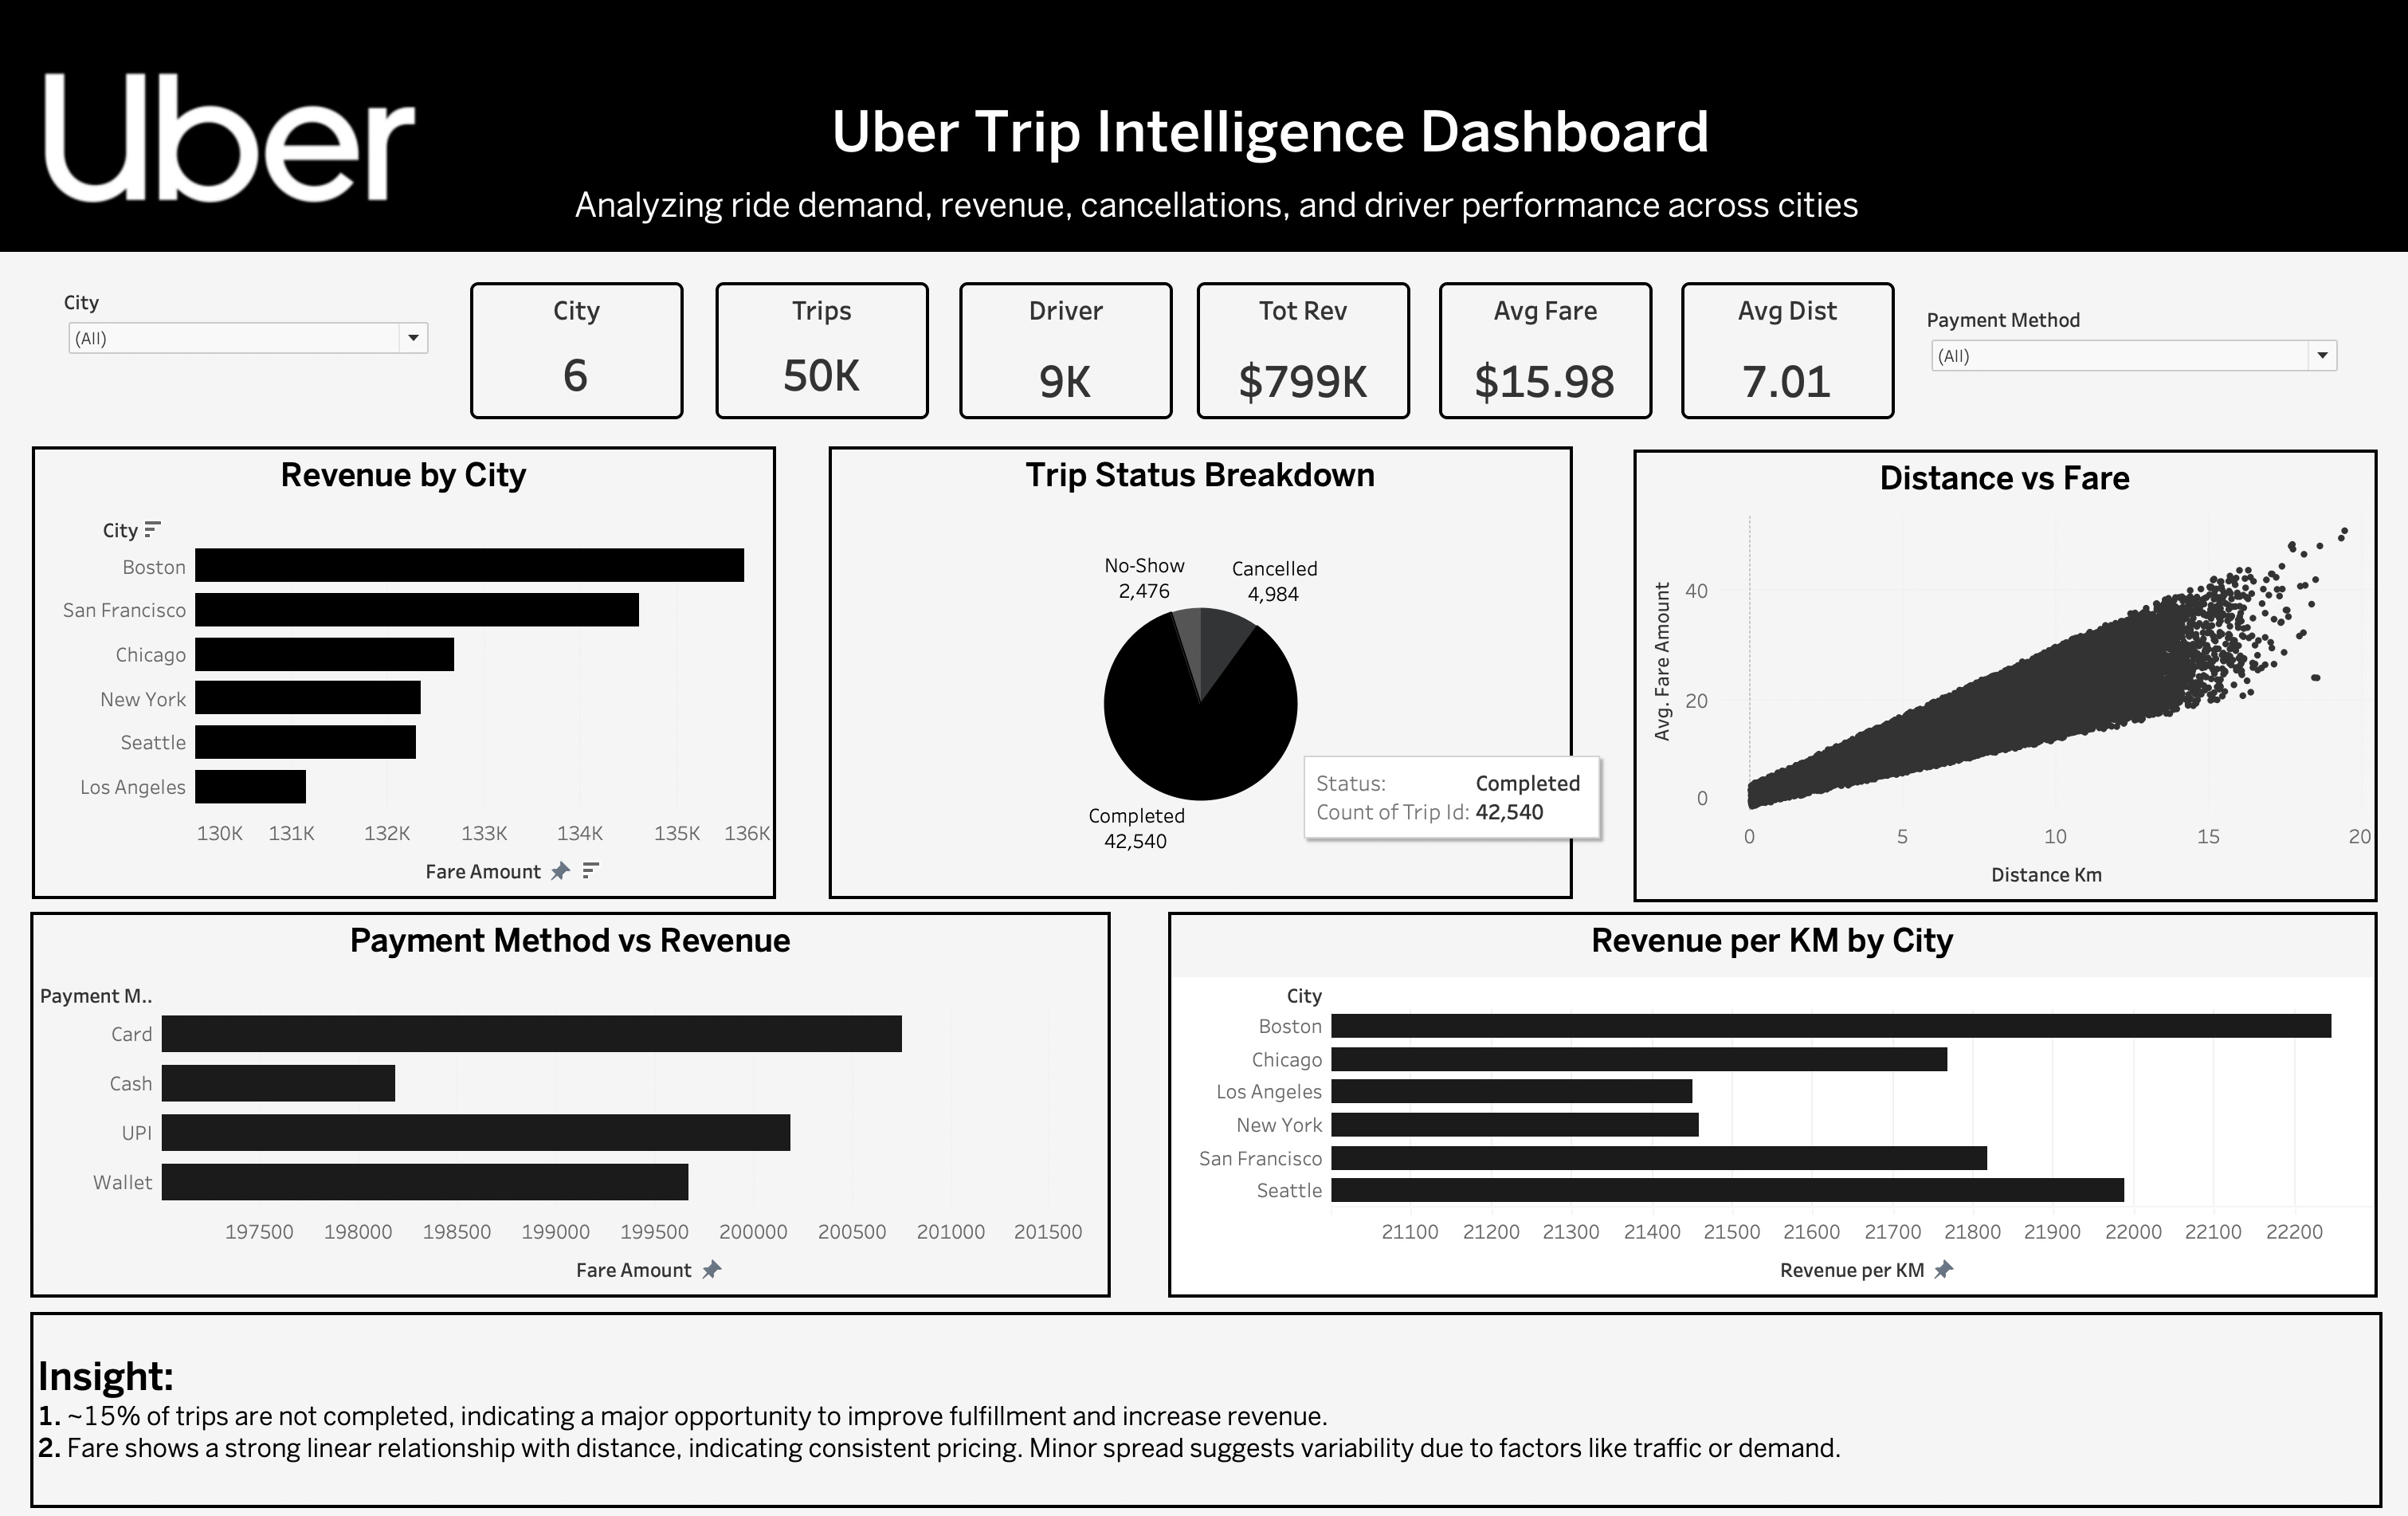

The page's visual inventory and layout, read from the dashboard file:
{"tool":"tableau","page":{"name":"Dashboard 1","canvas":[1000,1000],"units":"permille","ordinal":0},"visuals":[{"type":"text","box":[236.5,46.9,705,115.9]},{"type":"worksheet","title":"Sheet 1","mark":"Automatic","box":[195.2,157.5,88.7,93.4]},{"type":"worksheet","title":"Sheet 2","mark":"Automatic","box":[297.1,157.5,88.7,93.4]},{"type":"worksheet","title":"Sheet 3","mark":"Automatic","box":[398.2,157.5,88.7,93.4]},{"type":"worksheet","title":"Sheet 4","mark":"Automatic","box":[496.9,157.5,88.7,93.4]},{"type":"worksheet","title":"Sheet 5","mark":"Automatic","box":[597.2,157.5,88.7,93.4]},{"type":"worksheet","title":"Sheet 6","mark":"Automatic","box":[697.5,157.5,88.7,93.4]},{"type":"filter","title":"Sheet 7","param":"[federated.0qar49t0xj32wk1dnb2k401nubva].[none:city:nk]","box":[26.2,162.2,153.6,66.5]},{"type":"filter","title":"Sheet 10","param":"[federated.0qar49t0xj32wk1dnb2k401nubva].[none:payment_method:nk]","box":[799.4,173.9,172.8,93.4]},{"type":"worksheet","title":"Sheet 7","mark":"Automatic","rows":["city"],"cols":["fare_amount"],"box":[13.1,269.5,308.6,309.2]},{"type":"worksheet","title":"Sheet 8","mark":"Pie","box":[344.1,269.5,308.6,309.2]},{"type":"worksheet","title":"Sheet 9","mark":"Automatic","rows":["fare_amount"],"cols":["distance_km"],"box":[678.2,271.9,308.6,309.2]},{"type":"worksheet","title":"Sheet 10","mark":"Automatic","rows":["payment_method"],"cols":["fare_amount"],"box":[12.3,588.1,448.3,263.7]},{"type":"worksheet","title":"Sheet 11","mark":"Automatic","rows":["city"],"cols":["Calculation_6376201907556354"],"box":[484.6,588.1,502.3,263.7]},{"type":"text","box":[12.3,861.1,976.1,134.2]}]}

Visuals, with their boxes on the dashboard's canvas, which has no fixed pixel size, in thousandths of its width and height (x1, y1, x2, y2). These are canvas units, not pixel positions in the 2408x1516 screenshot, which may show the page scaled, cropped or inside an application window:
text: (236, 47, 942, 163)
"Sheet 1" worksheet: (195, 158, 284, 251)
"Sheet 2" worksheet: (297, 158, 386, 251)
"Sheet 3" worksheet: (398, 158, 487, 251)
"Sheet 4" worksheet: (497, 158, 586, 251)
"Sheet 5" worksheet: (597, 158, 686, 251)
"Sheet 6" worksheet: (698, 158, 786, 251)
"Sheet 7" filter: (26, 162, 180, 229)
"Sheet 10" filter: (799, 174, 972, 267)
"Sheet 7" worksheet: (13, 270, 322, 579)
"Sheet 8" worksheet (Pie marks): (344, 270, 653, 579)
"Sheet 9" worksheet: (678, 272, 987, 581)
"Sheet 10" worksheet: (12, 588, 461, 852)
"Sheet 11" worksheet: (485, 588, 987, 852)
text: (12, 861, 988, 995)
